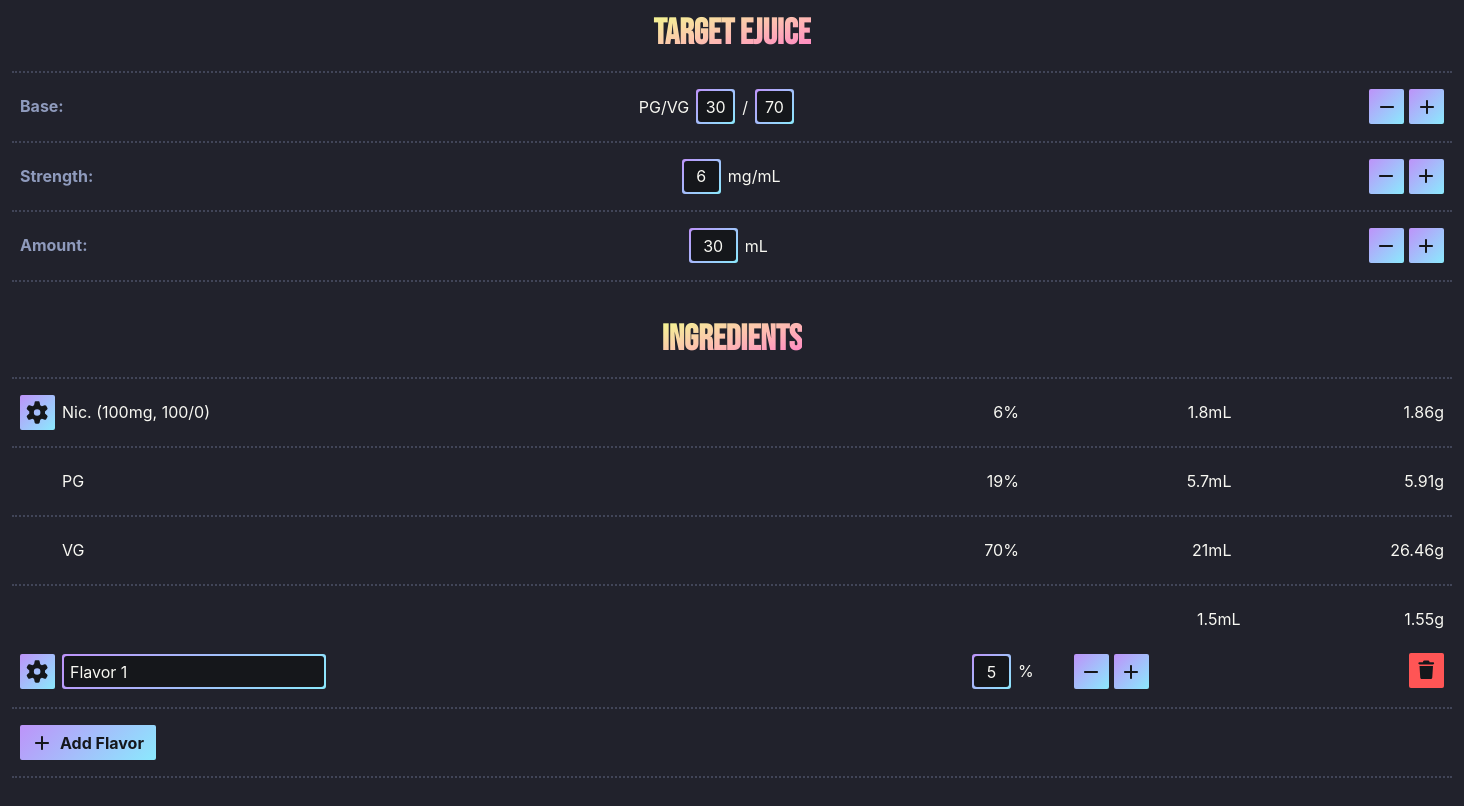
Nicotine config › button click renders the nic config
Step 1. Click the button with test id "nicConfigBtn" → coordinates (38, 412), box [20, 394, 55, 430]
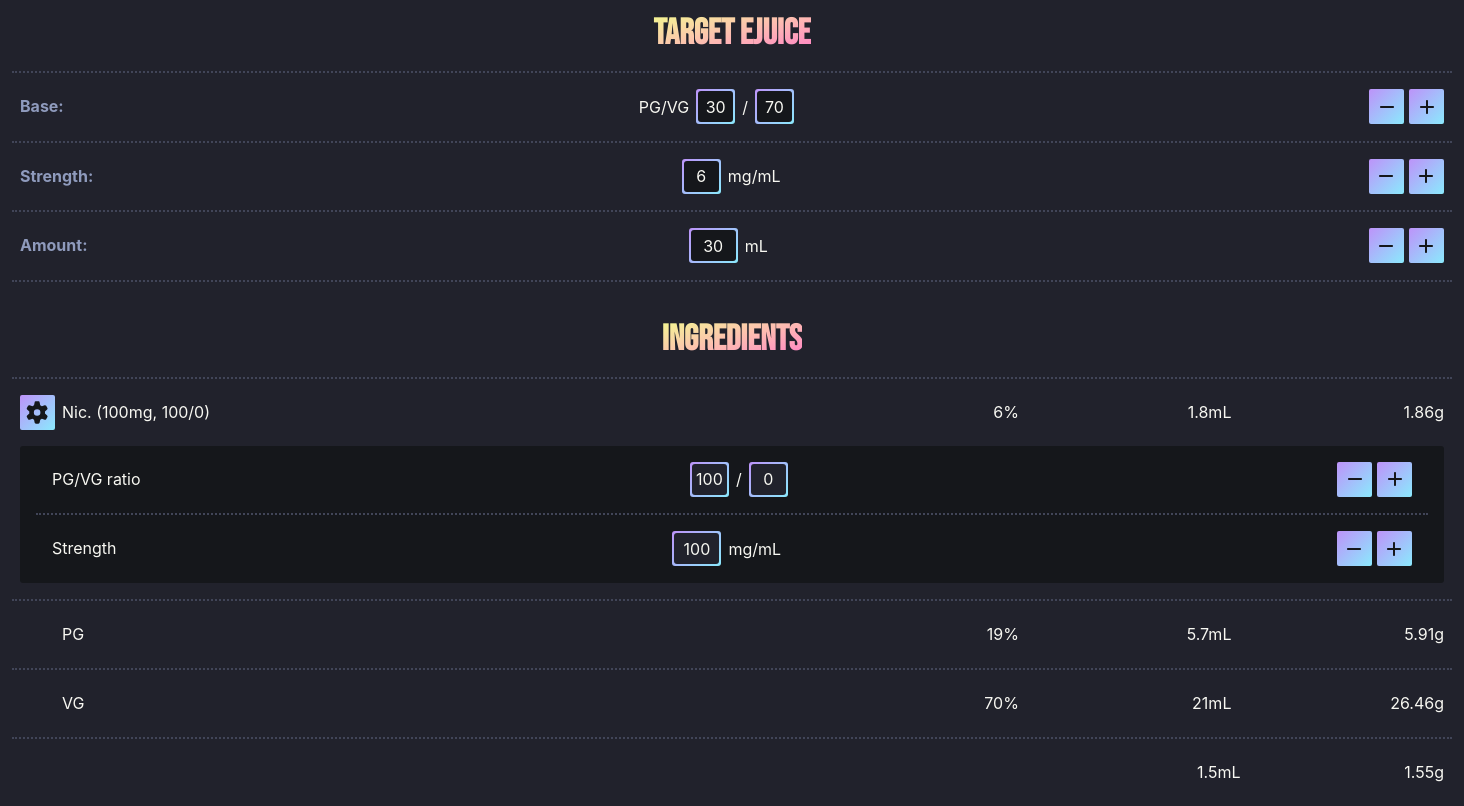
Expected: the number field with test id "nicConfigStrengthInput" holds "100", [674, 533, 719, 564]
